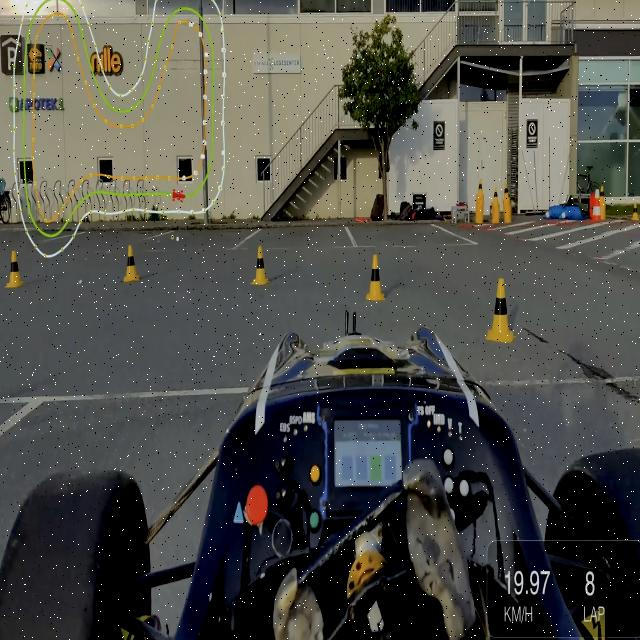large_orange_cone: (594, 187, 604, 223)
yellow_cone: (489, 270, 511, 348), (363, 248, 388, 304), (254, 242, 268, 294), (122, 244, 137, 285), (7, 249, 21, 287)
